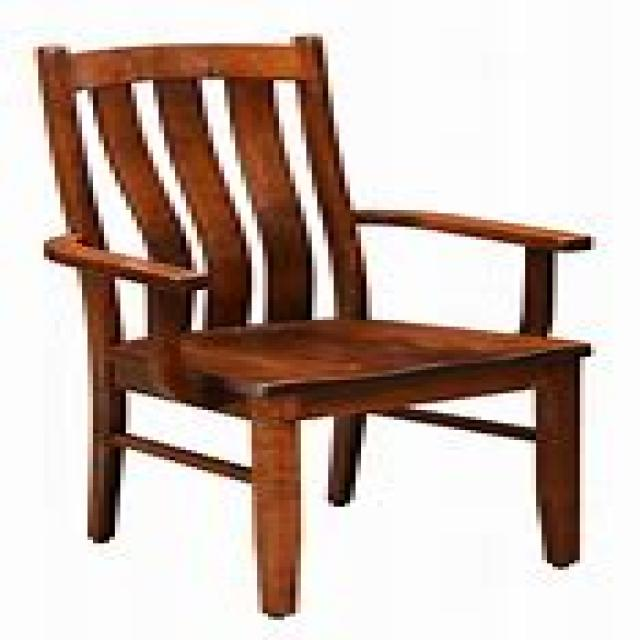chair: (33, 33, 591, 617)
